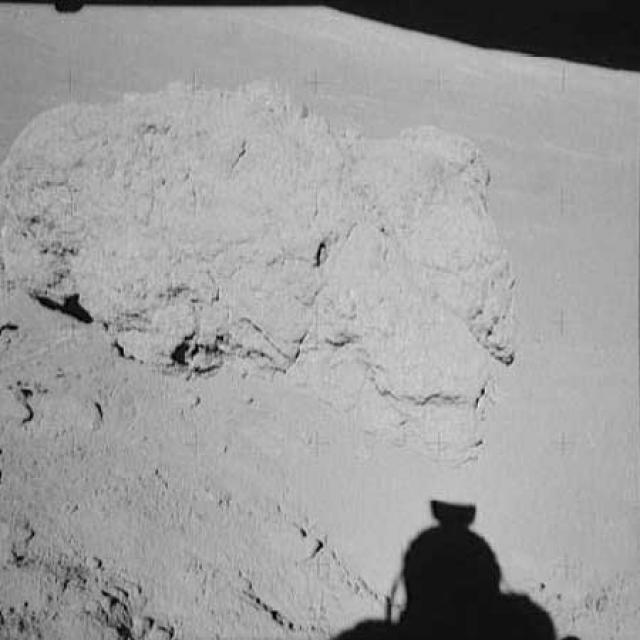rock: (3, 79, 531, 468)
